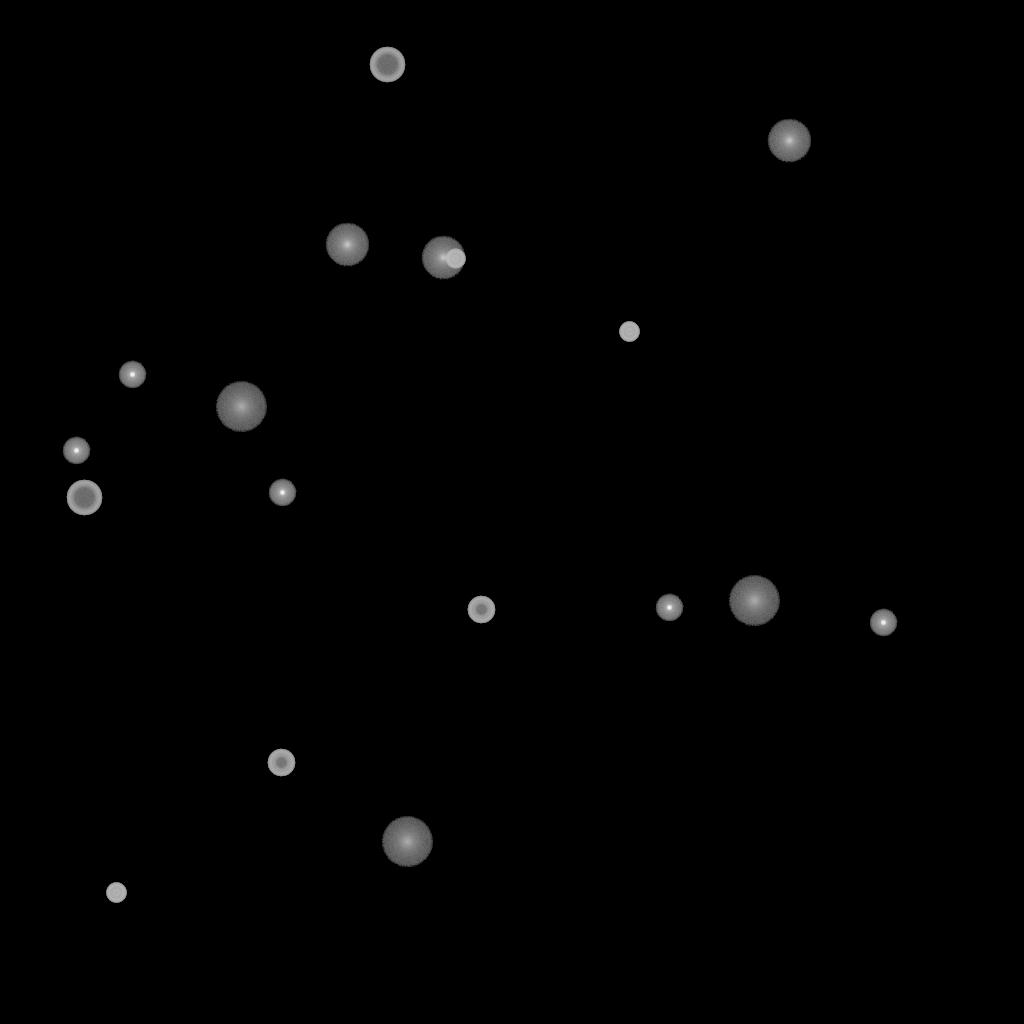depth:-10: (869, 609, 897, 637), (118, 361, 146, 389), (62, 437, 90, 465), (268, 479, 296, 507), (655, 594, 683, 622)
depth:-40: (106, 883, 126, 903), (619, 322, 639, 342), (445, 249, 465, 269)
depth:-50: (267, 749, 295, 777), (467, 596, 495, 624)
depth:-60: (66, 480, 102, 516), (369, 47, 405, 83)
depth:10: (421, 236, 465, 280), (767, 119, 811, 163), (325, 223, 369, 267)
depth:20: (381, 817, 433, 867), (215, 382, 267, 432), (728, 576, 780, 626)
